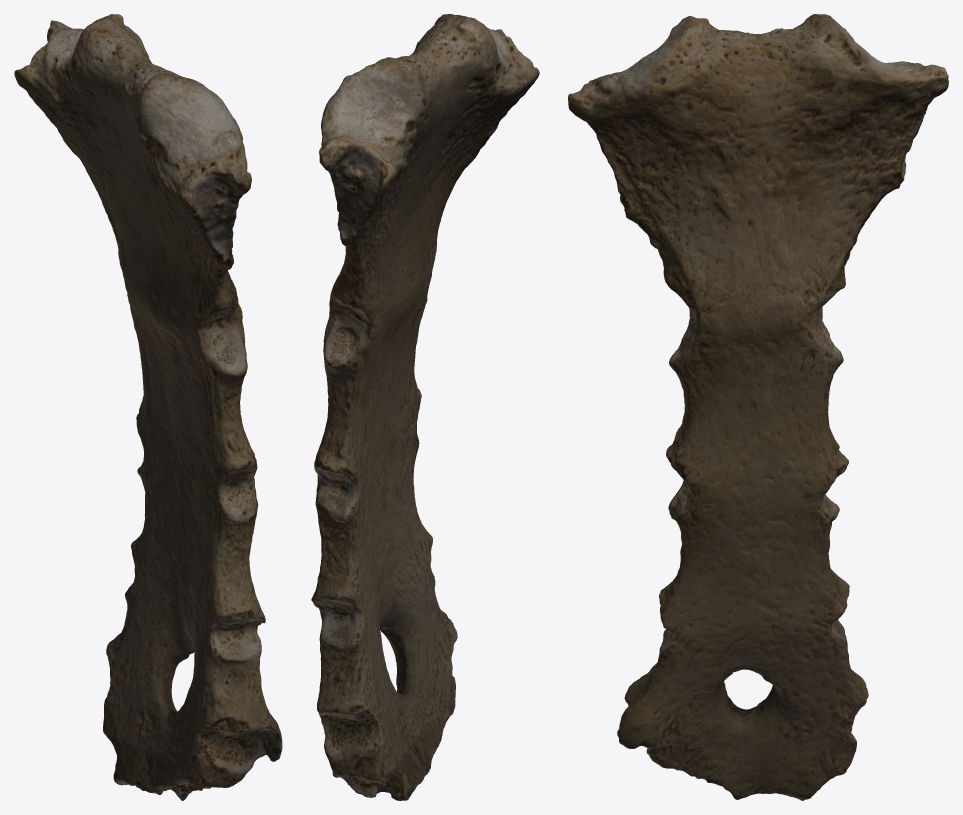
The model's file is sternum.glb.
3 renders of one model, left to right at view 1: azimuth 30°, elevation 25°; view 2: azimuth 150°, elevation 25°; view 3: azimuth 270°, elevation 25°, orthographic.
Parts seen in each view (by area): view 1: Object_4, Object_5, Object_3, Object_6, Object_2; view 2: Object_4, Object_3, Object_2, Object_5, Object_6; view 3: Object_2, Object_3, Object_4, Object_5, Object_6.
Part boxes in pixels (bbox=[...]): Object_4: bbox=[106, 94, 265, 788]; Object_5: bbox=[103, 488, 282, 800]; Object_3: bbox=[25, 53, 251, 433]; Object_6: bbox=[132, 152, 258, 565]; Object_2: bbox=[14, 14, 242, 307]; Object_4: bbox=[314, 29, 523, 798]; Object_3: bbox=[316, 14, 534, 514]; Object_2: bbox=[319, 16, 539, 362]; Object_5: bbox=[317, 427, 457, 800]; Object_6: bbox=[311, 39, 539, 709]; Object_2: bbox=[580, 14, 948, 356]; Object_3: bbox=[568, 16, 858, 574]; Object_4: bbox=[568, 72, 868, 775]; Object_5: bbox=[617, 481, 866, 800]; Object_6: bbox=[620, 192, 866, 707].
Size of the model in its own units: 27.99 by 155 by 69.84.
Materials: 1 (1 with a texture image).
